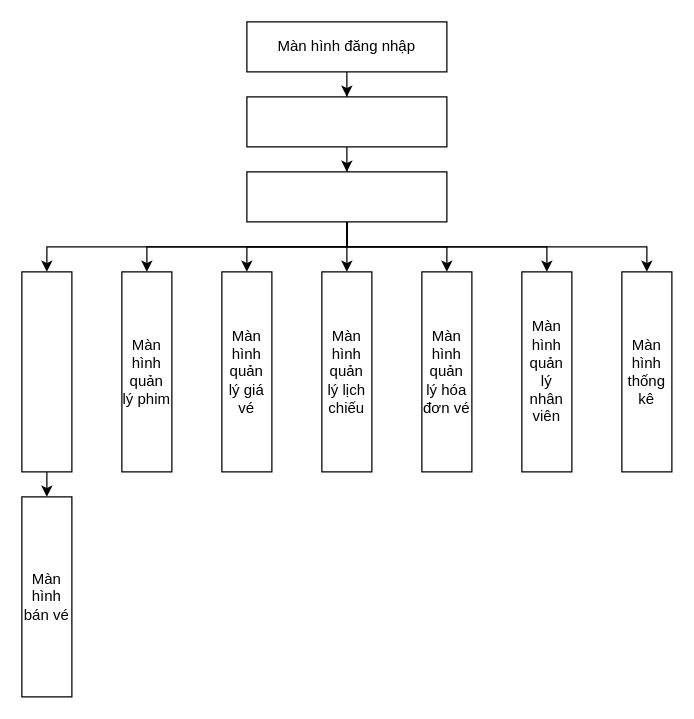
Image size: 694x719. Some labels were removed from this diagram. Here are the shapes that lost their labels. From the top down, the centre of each, then its label:
[346,121]: Màn hình chào
[346,196]: Màn hình chính
[46,371]: Màn hình lịch chiếu
